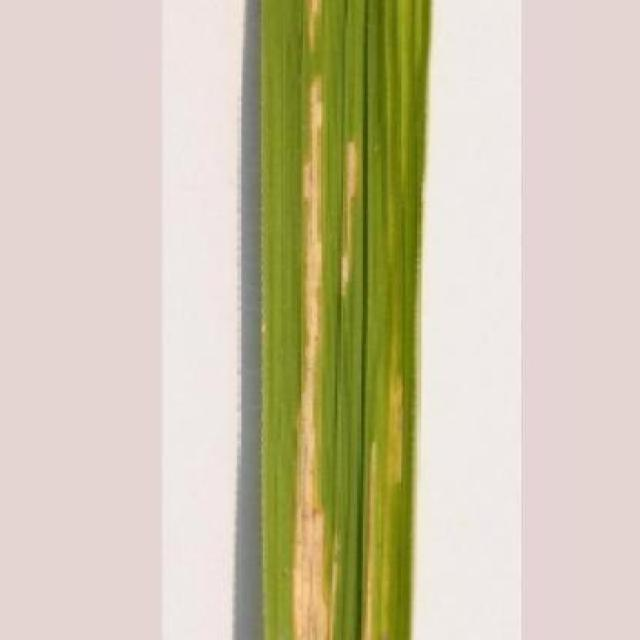Brown_Spot: (258, 0, 439, 640)
